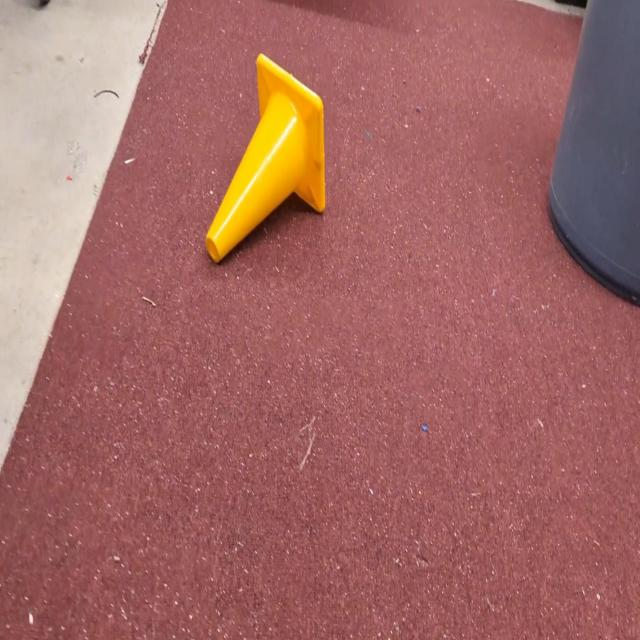frc_cone: (205, 54, 326, 262)
